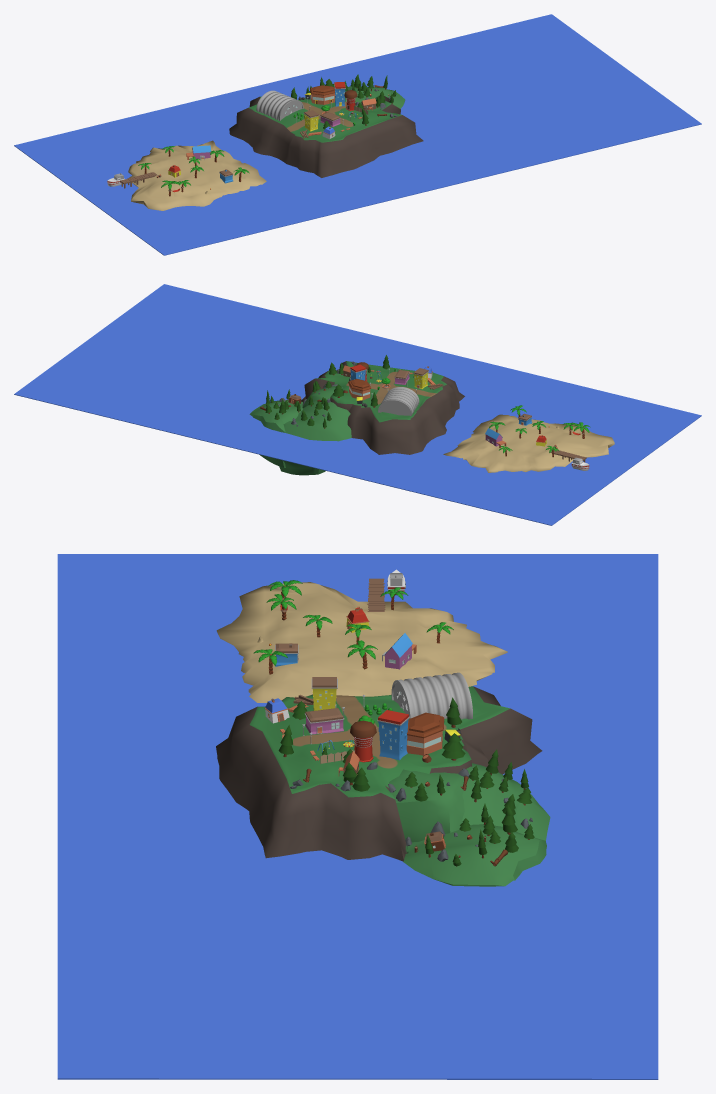
The model's file is ganze Welt.fbx.
3 renders of one model, top to bottom at view 1: azimuth 30°, elevation 25°; view 2: azimuth 150°, elevation 25°; view 3: azimuth 270°, elevation 25°, orthographic. The views are drawn at different scales.
Parts seen in each view (by area): view 1: wasser, stadt, strandbase, Cylinder.003, wald, Cylinder.005; view 2: wasser, stadt, strandbase, wald, Cylinder.003, Cylinder.005; view 3: wasser, stadt, strandbase, wald, Cylinder.003, Cylinder.005, Cube.004, Cube.003, Cube.002, Cylinder.004.
Part boxes in pixels (x1=…): wasser: x1=14, y1=14, x2=701, y2=255; stadt: x1=229, y1=96, x2=423, y2=177; strandbase: x1=128, y1=140, x2=266, y2=210; Cylinder.003: x1=256, y1=90, x2=303, y2=120; wald: x1=345, y1=86, x2=405, y2=108; Cylinder.005: x1=310, y1=85, x2=334, y2=104; wasser: x1=14, y1=284, x2=701, y2=525; stadt: x1=301, y1=361, x2=464, y2=454; strandbase: x1=443, y1=414, x2=614, y2=472; wald: x1=249, y1=385, x2=351, y2=475; Cylinder.003: x1=378, y1=387, x2=419, y2=415; Cylinder.005: x1=348, y1=379, x2=371, y2=400; wasser: x1=57, y1=554, x2=658, y2=1079; stadt: x1=216, y1=686, x2=542, y2=861; strandbase: x1=216, y1=582, x2=507, y2=702; wald: x1=389, y1=763, x2=550, y2=886; Cylinder.003: x1=391, y1=672, x2=472, y2=719; Cylinder.005: x1=406, y1=712, x2=444, y2=755; Cube.004: x1=377, y1=710, x2=409, y2=760; Cube.003: x1=304, y1=708, x2=344, y2=734; Cube.002: x1=311, y1=677, x2=337, y2=710; Cylinder.004: x1=350, y1=720, x2=376, y2=762.
Size of the model in its own units: 50657 by 8629 by 24507.
Materials: 21 (1 with a texture image).
